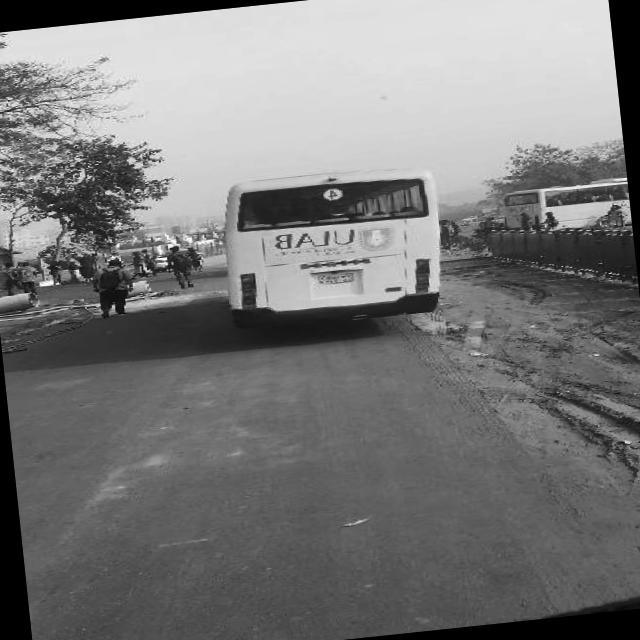bus: (218, 161, 451, 332), (502, 176, 632, 235)
car: (152, 245, 204, 271), (463, 213, 486, 220)
motorcycle: (470, 214, 511, 238)
